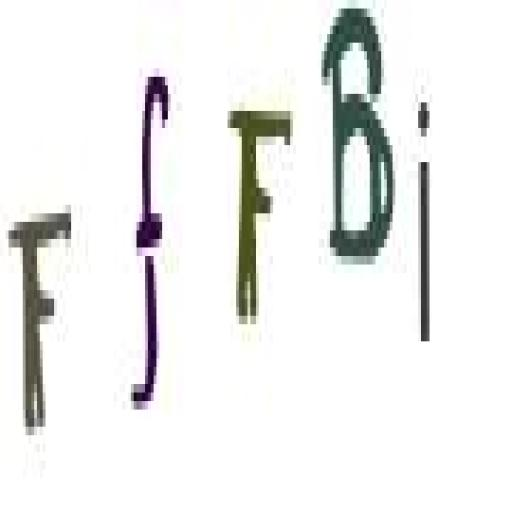B: (315, 0, 394, 280)
F: (6, 191, 76, 451), (228, 90, 298, 346)
f: (124, 58, 176, 444)
i: (411, 88, 441, 367)
